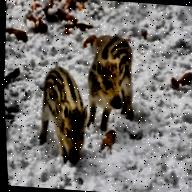boar: (33, 65, 93, 165), (81, 31, 140, 132)
